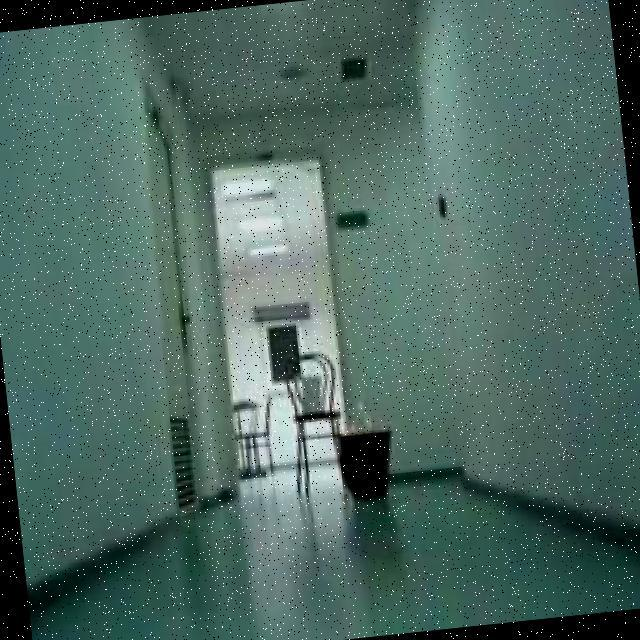Fire: (356, 395, 376, 432)
